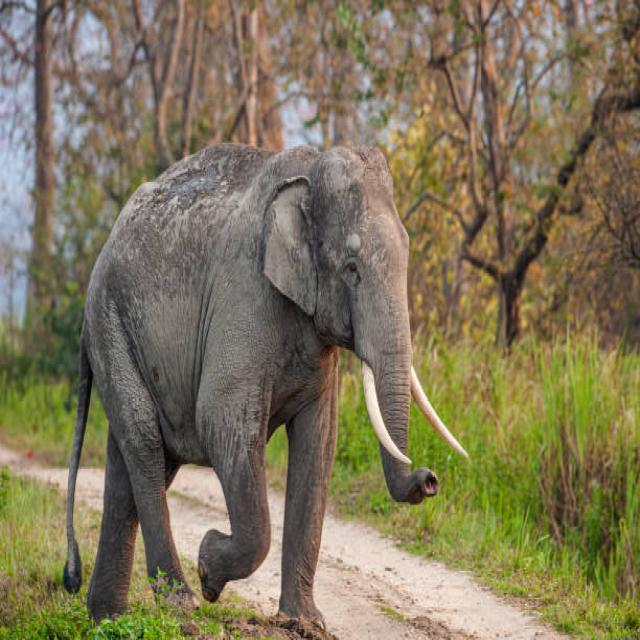Elephant: (57, 132, 462, 624)
